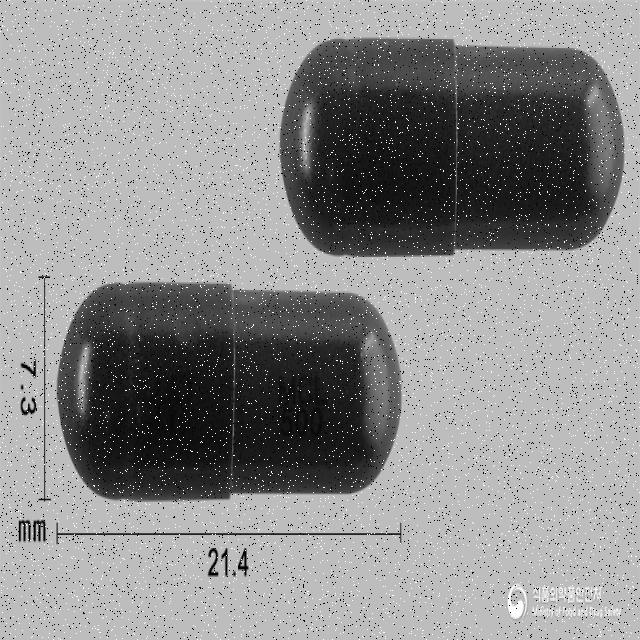Cephamethyl Cap: (54, 272, 406, 503), (276, 32, 628, 263)
